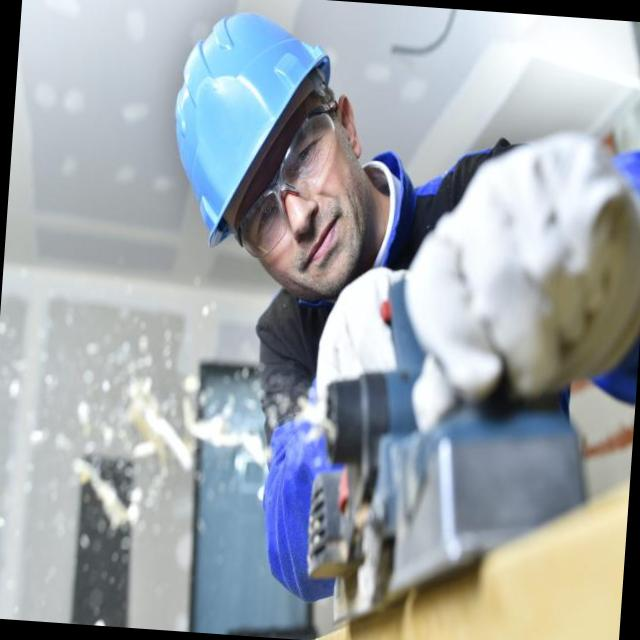Gloves: (404, 108, 632, 436), (298, 240, 419, 452)
Helmet: (162, 6, 332, 244)
